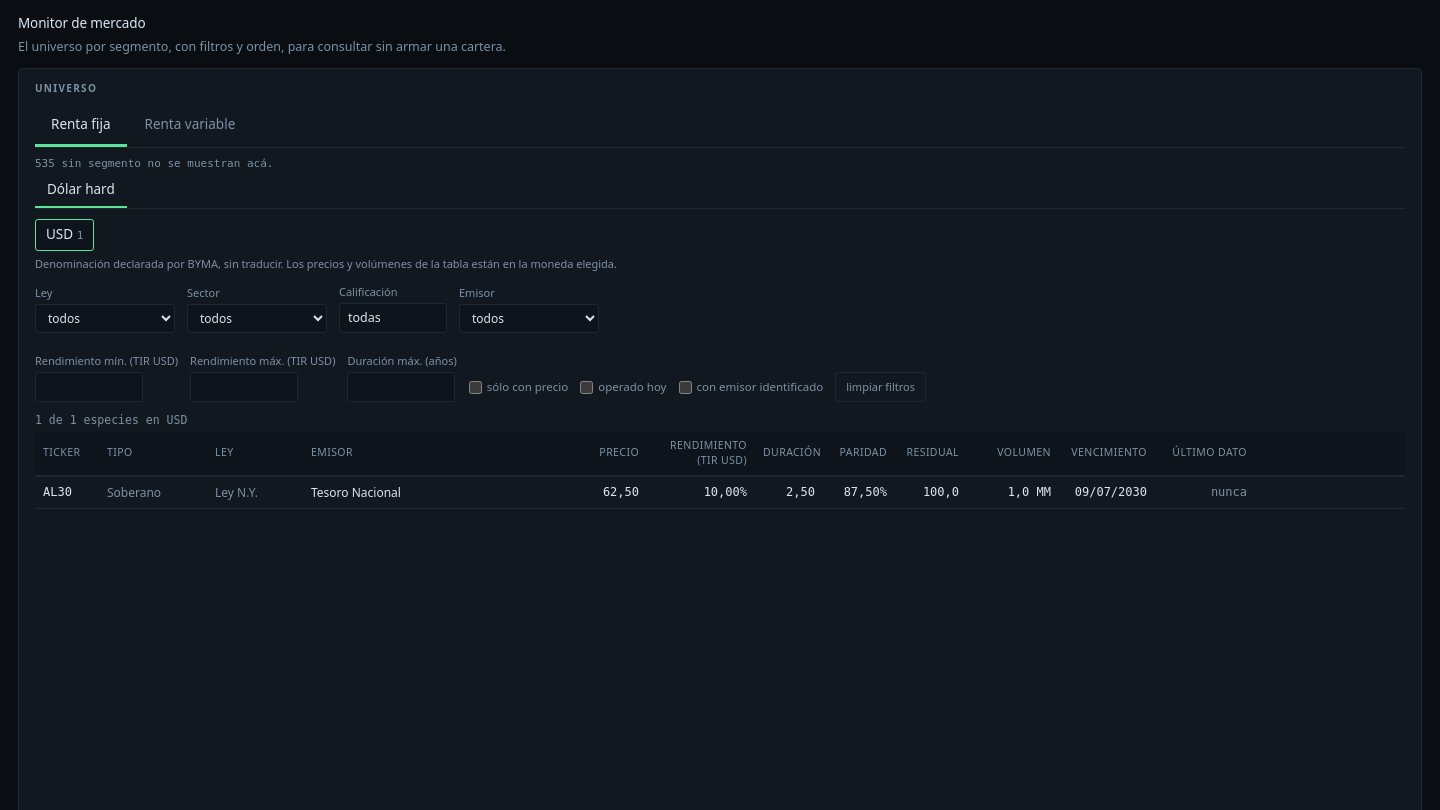
Test: GWT-1: las pestañas de renta variable no tienen columna de rendimiento › activar Renta variable no deja una sub-barra: va directo a la tabla
This screenshot has width=1440, height=810.
Step 1. Click the button "Renta variable" → (190, 126), box left=128, top=105, right=251, bottom=147
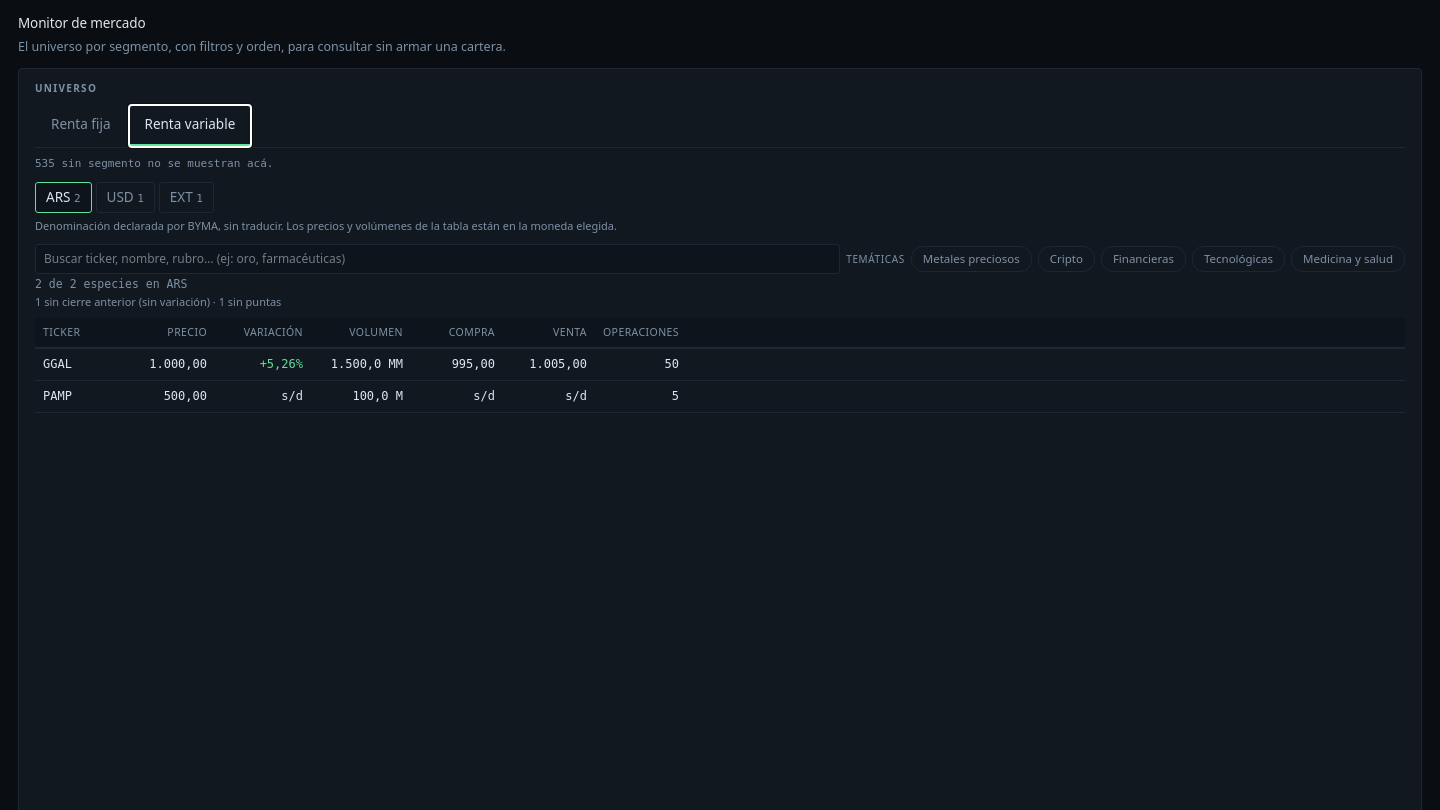
Expected: the text "2 de 2 especies en ARS" is shown, left=35, top=277, right=187, bottom=291
